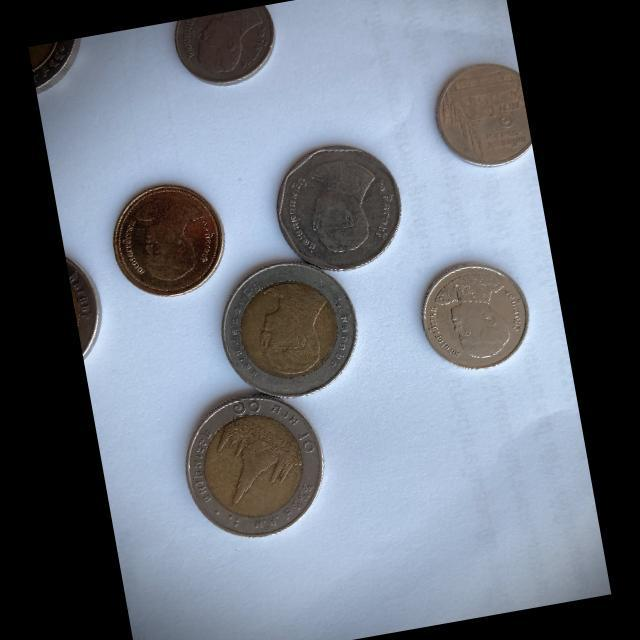1 Bath: (420, 260, 533, 377), (437, 62, 538, 173)
10 Bath: (221, 257, 363, 402), (187, 396, 327, 542), (56, 257, 104, 367), (15, 28, 86, 100)
2 Bath: (110, 181, 229, 304), (172, 7, 283, 91)
5 Bath: (279, 141, 405, 267)
